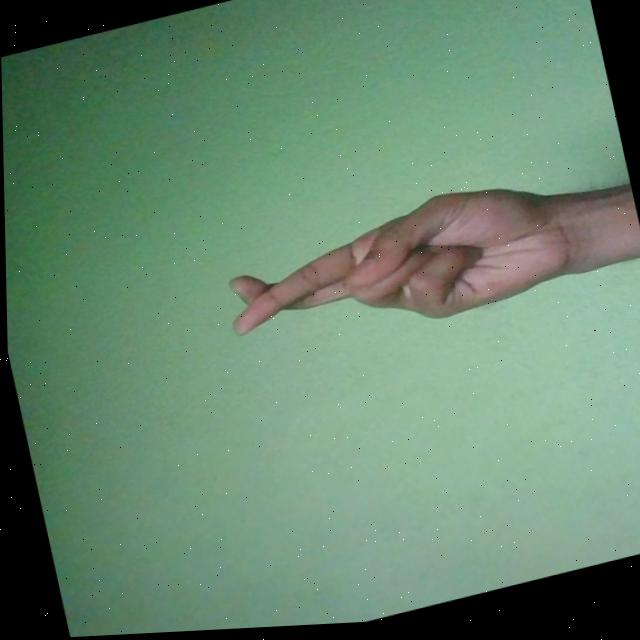Good Luck: (212, 168, 594, 372)
